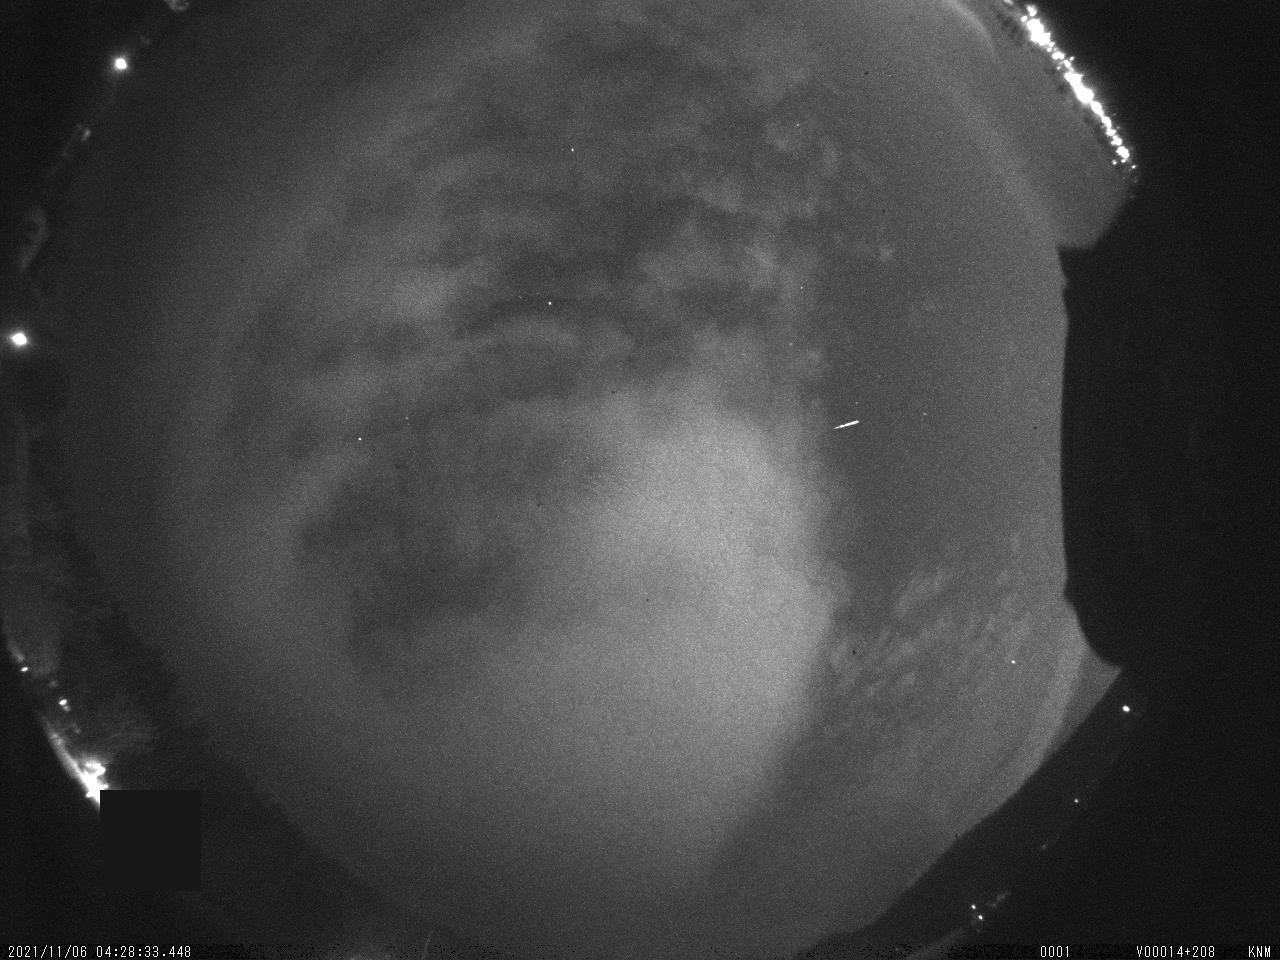Meteor: (828, 411, 868, 440)
